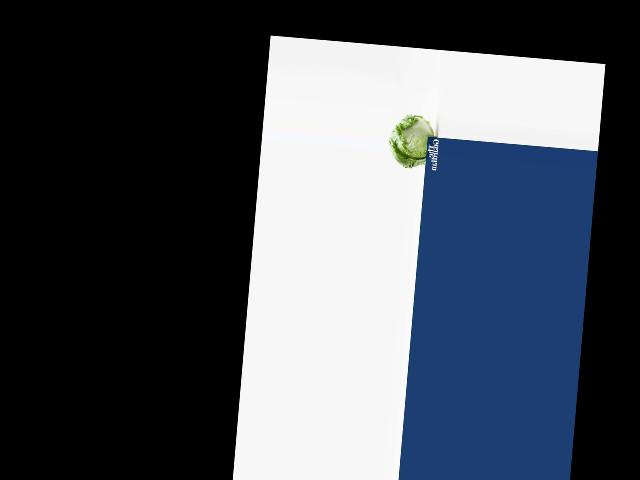lettuce: (384, 113, 435, 168)
